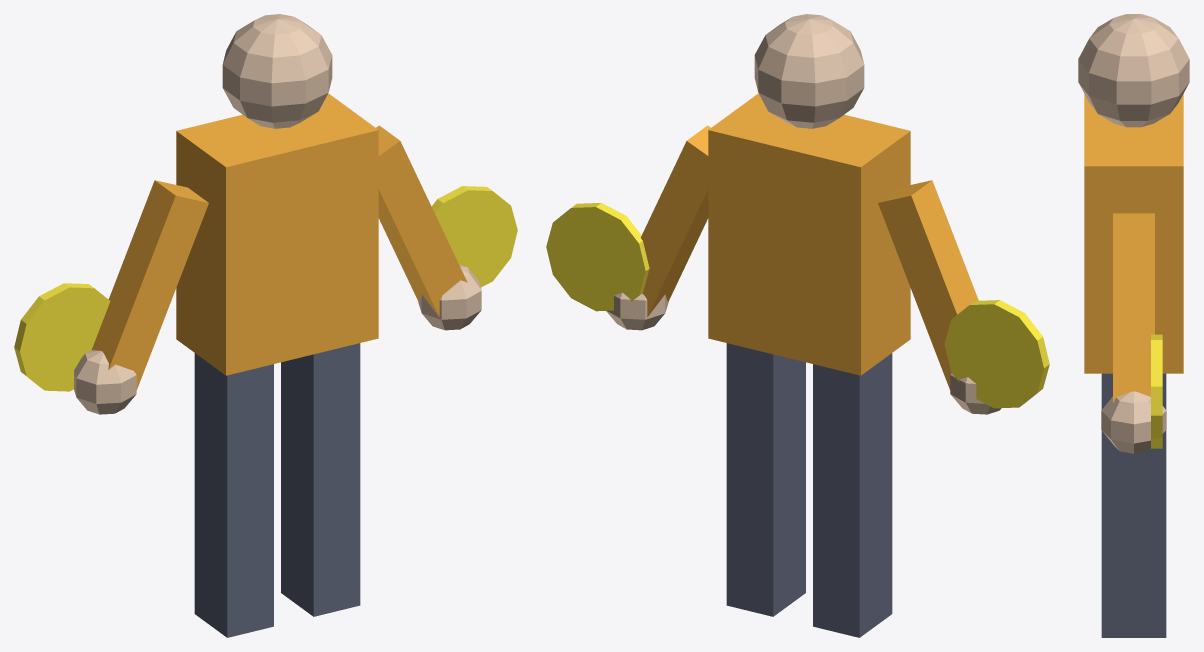
Rendered from marshaller.glb.
3 views of the same model, side by side, from view 1: azimuth 30°, elevation 25°; view 2: azimuth 150°, elevation 25°; view 3: azimuth 270°, elevation 25° (orthographic).
Parts seen in each view (by area): view 1: Marshaller_Export; view 2: Marshaller_Export; view 3: Marshaller_Export.
Boxes of the visible parts, <box> form: Marshaller_Export: <box>14,14,517,637</box>; Marshaller_Export: <box>546,14,1049,637</box>; Marshaller_Export: <box>1078,14,1189,637</box>.
Size of the model in its own units: 1.5 by 1.7 by 0.2925.
